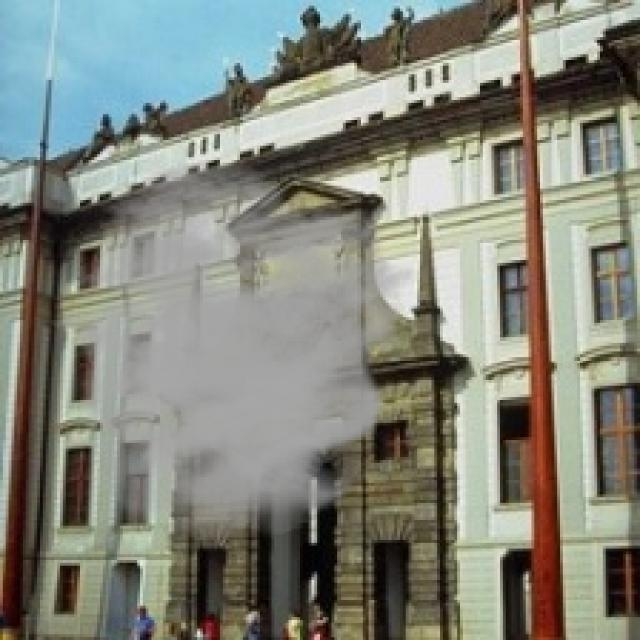smoke: (32, 160, 417, 540)
